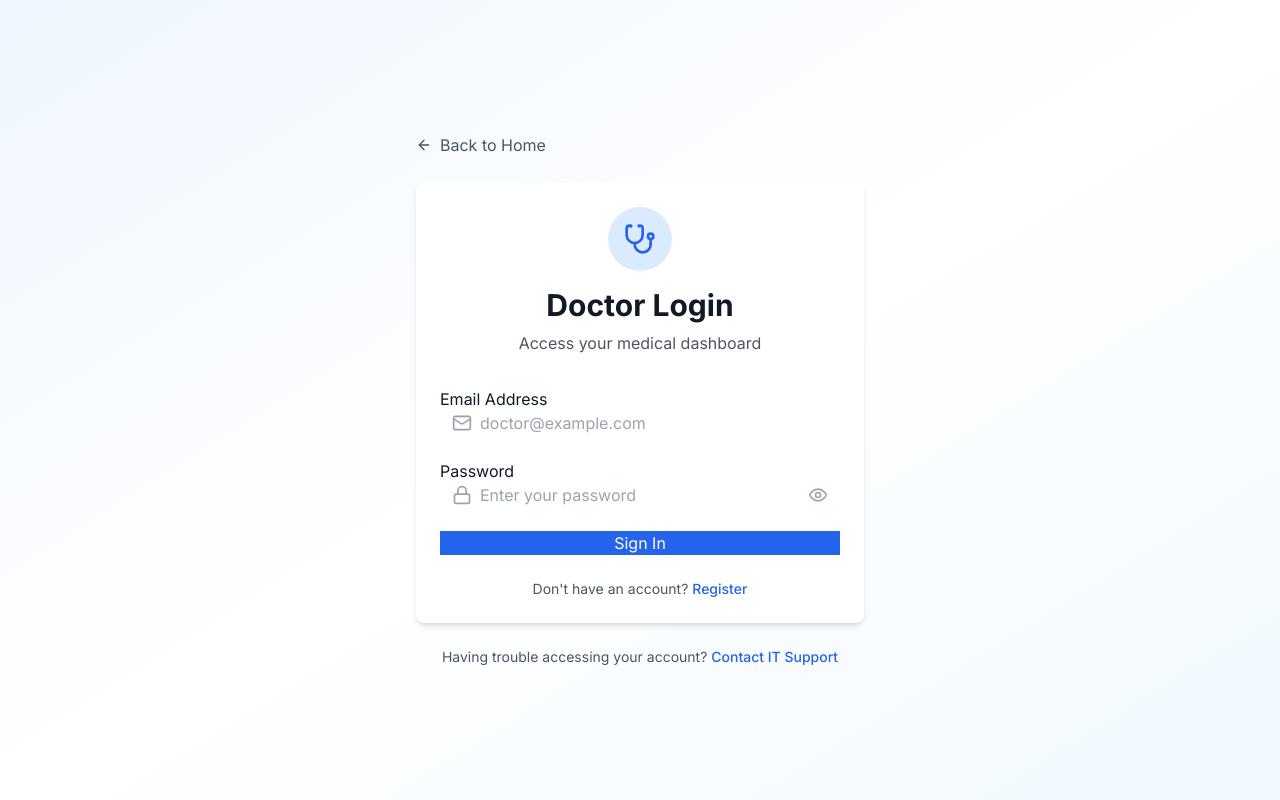
Test: DoctorLogin (Req 7 - Security & Authentication) › Authentication (Req 7 - Secure Login) › should display error on failed login
Type "doctor@test.com" into the field with placeholder "doctor@example.com".
click(577, 423); type("doctor@test.com")  # box [440,411,714,435]
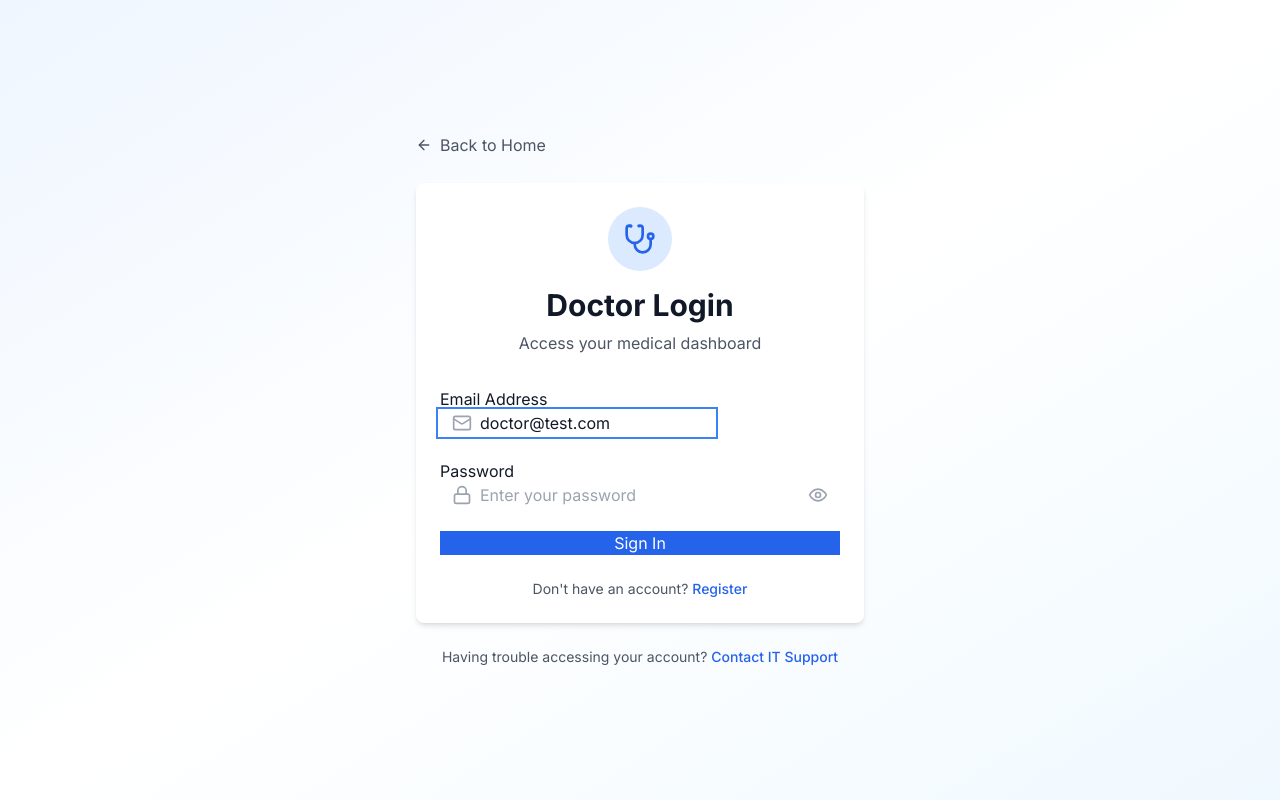
Type "wrongpass" into the password field with placeholder "Enter your password".
click(577, 495); type("wrongpass")  # box [440,483,714,507]
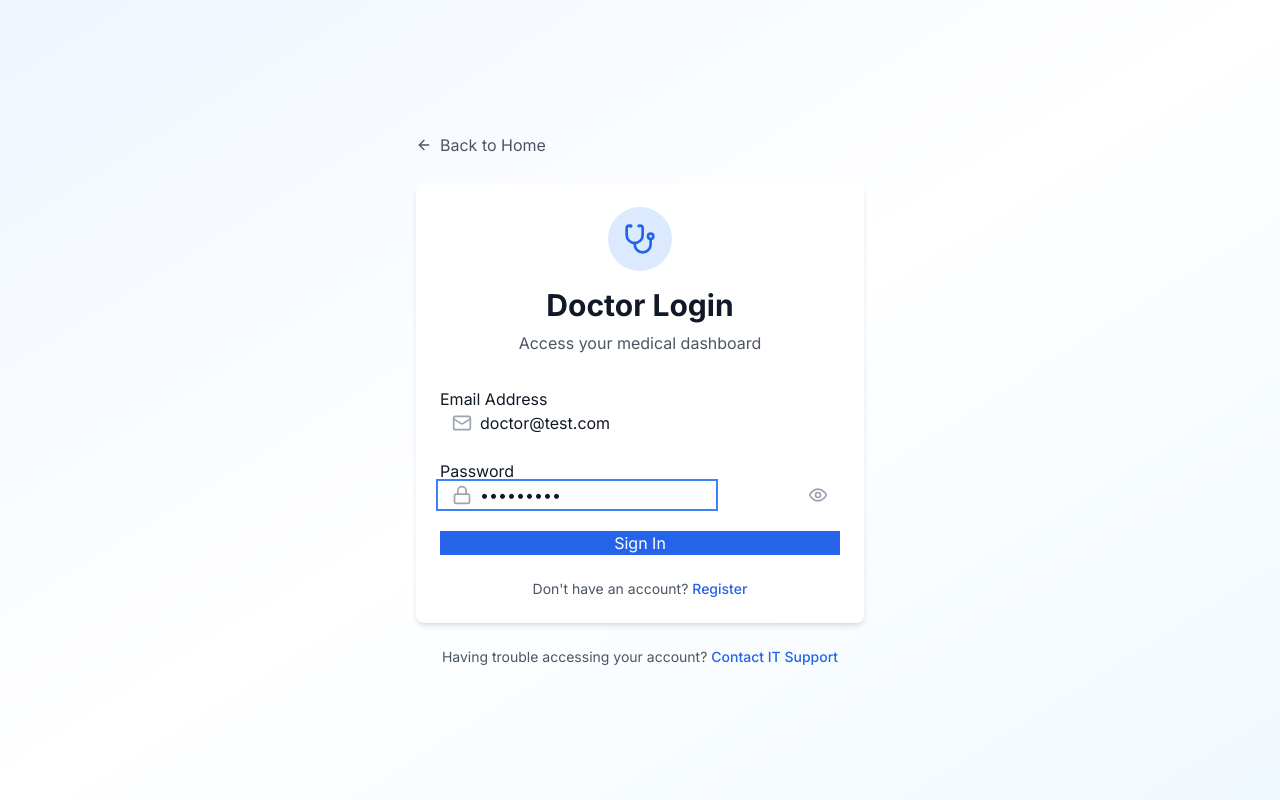
Click the button "Sign In".
click(640, 543)  # box [440,531,840,555]
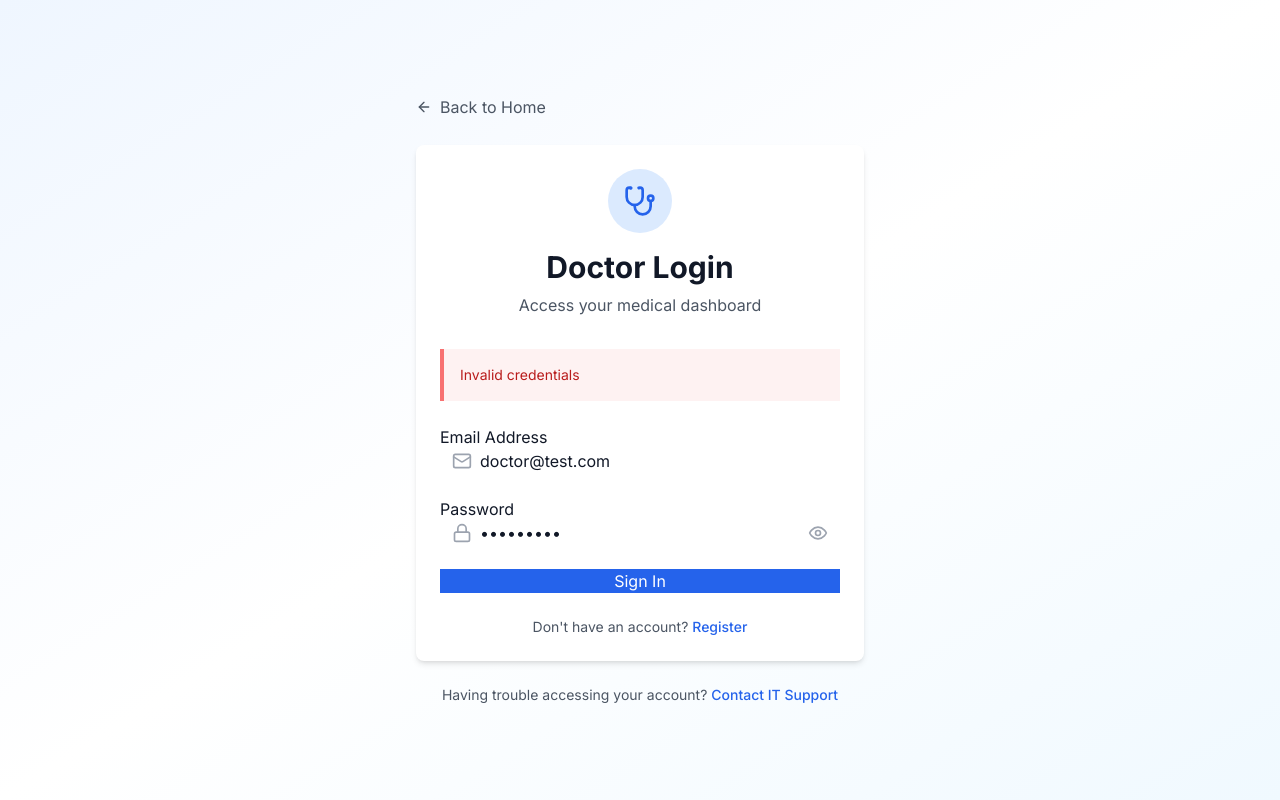
Now the text "Invalid credentials" is shown, box [460,366,580,383]
